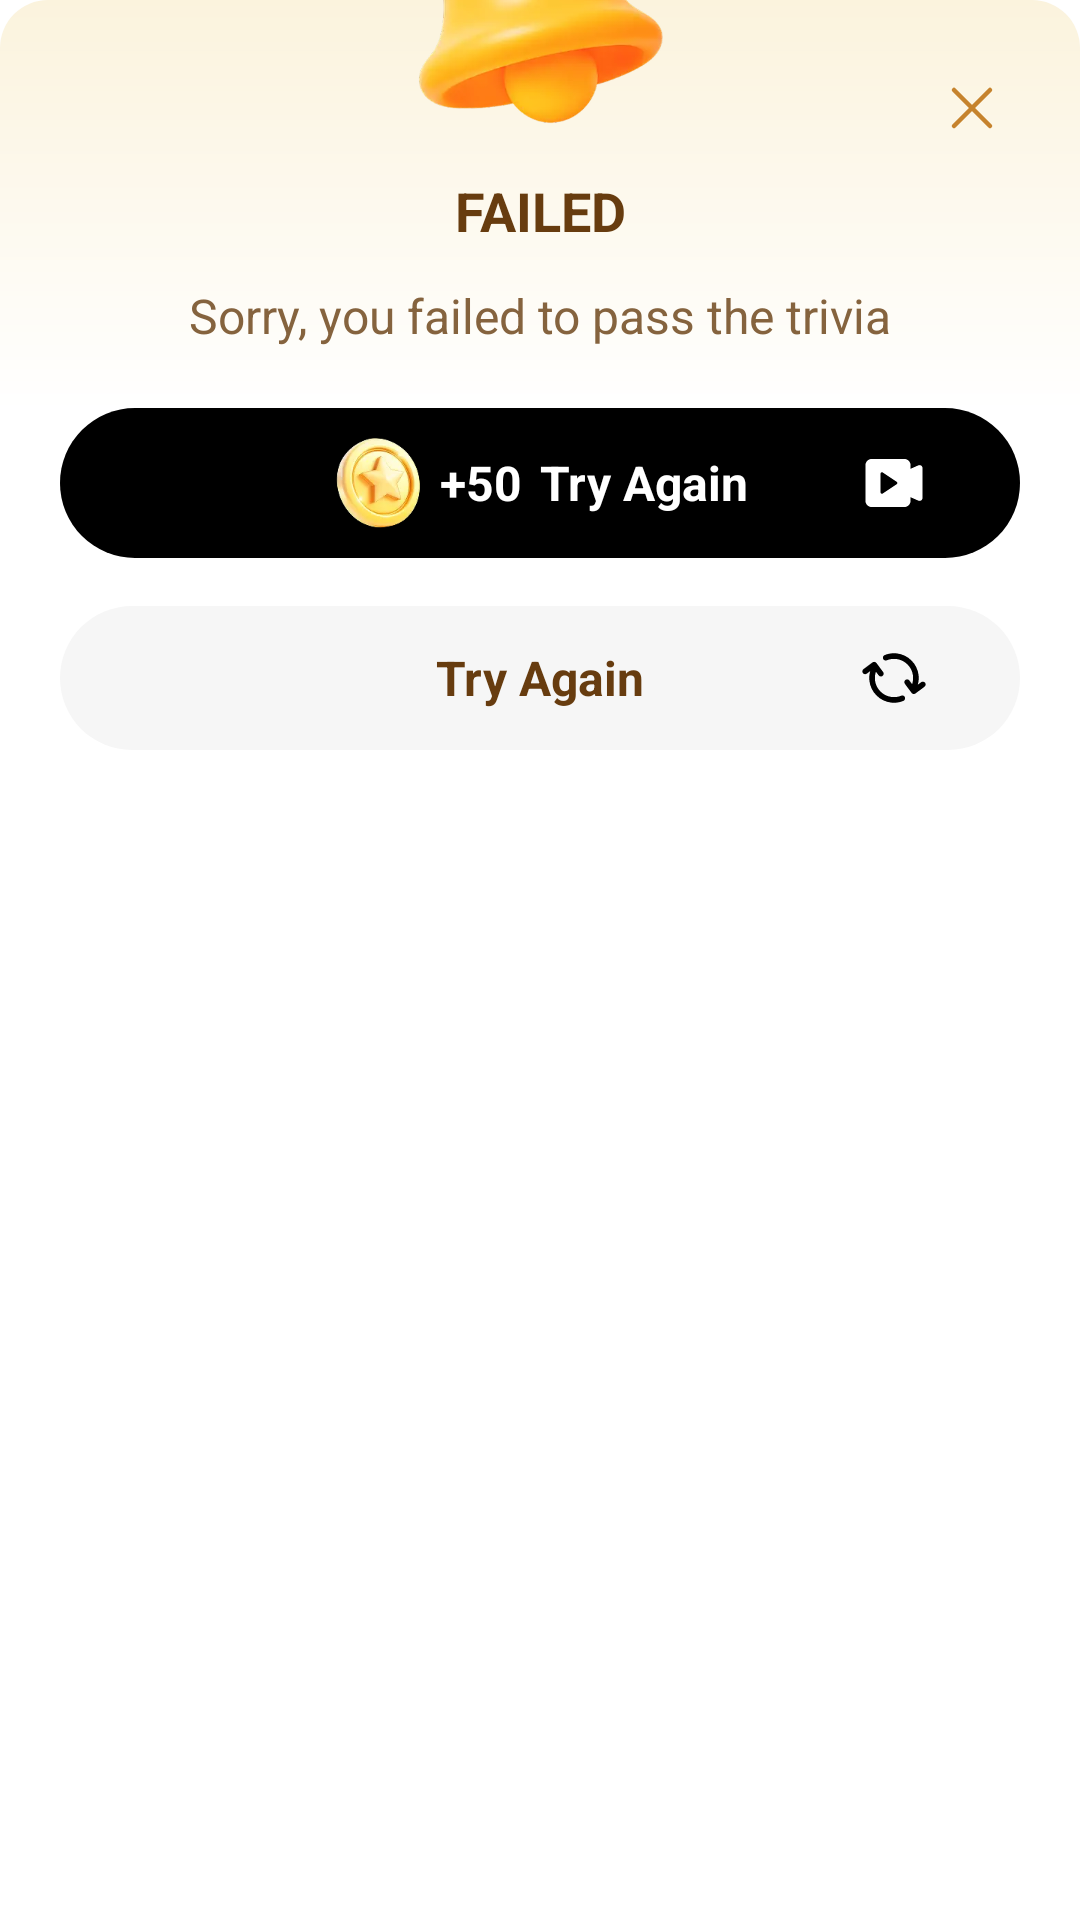

Icon bounding boxes for this 1080px x 1920px phone screenshot, format [x1,y1,x2,y2]:
answer restart: [862,653,926,703]
cancel: [951,87,992,129]
kjv coin: [336,438,420,528]
rewarded ad: [865,459,923,507]
